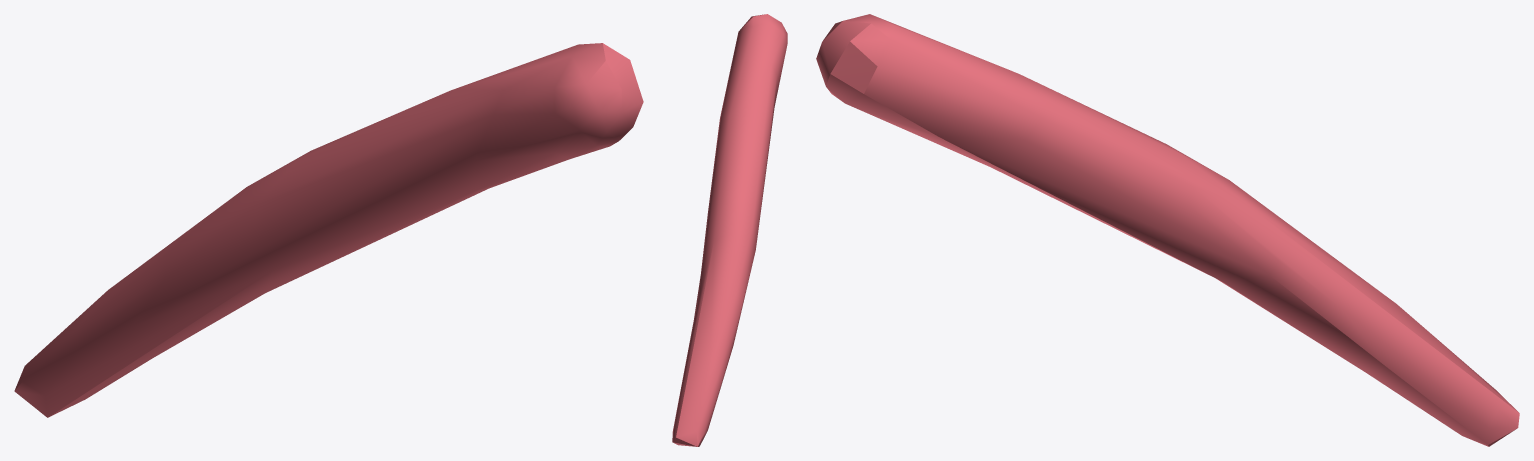
The model's file is fma9428_fj6134.glb.
3 views of the same model, side by side, from view 1: azimuth 30°, elevation 25°; view 2: azimuth 150°, elevation 25°; view 3: azimuth 270°, elevation 25° (orthographic). The views are drawn at different scales.
Parts seen in each view (by area): view 1: FMA9428_FJ6134; view 2: FMA9428_FJ6134; view 3: FMA9428_FJ6134.
Part boxes in pixels (<box>): FMA9428_FJ6134: <box>14,43,643,417</box>; FMA9428_FJ6134: <box>672,14,787,446</box>; FMA9428_FJ6134: <box>816,14,1519,446</box>.
Bounding box in the file's own units: 0.0079 × 0.0159 × 0.0199.
